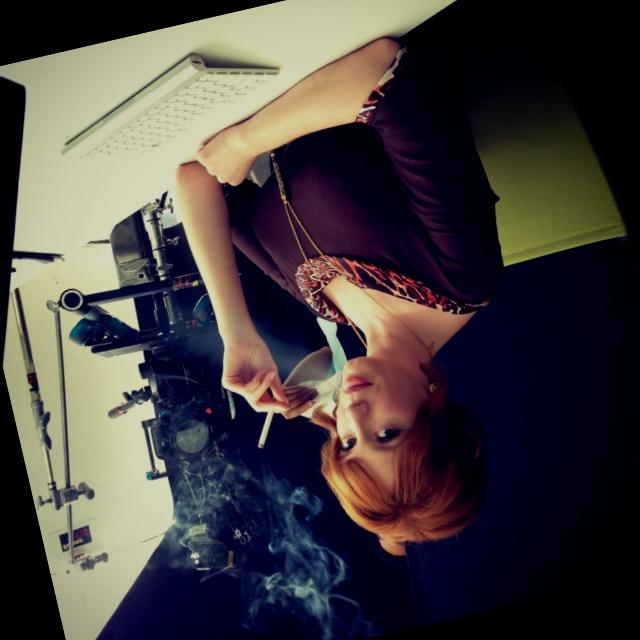smoke: (228, 386, 300, 464)
